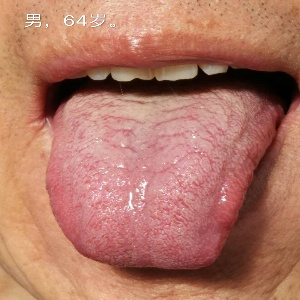st: (57, 105, 265, 265)
